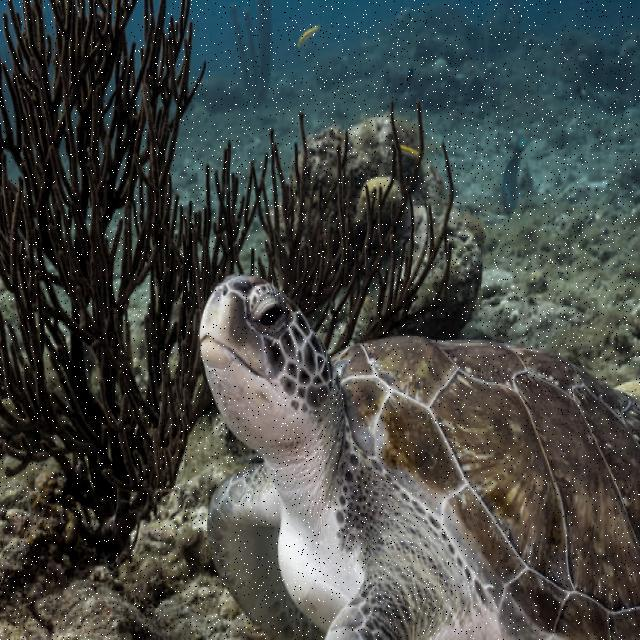tortoise: (192, 275, 639, 640)
